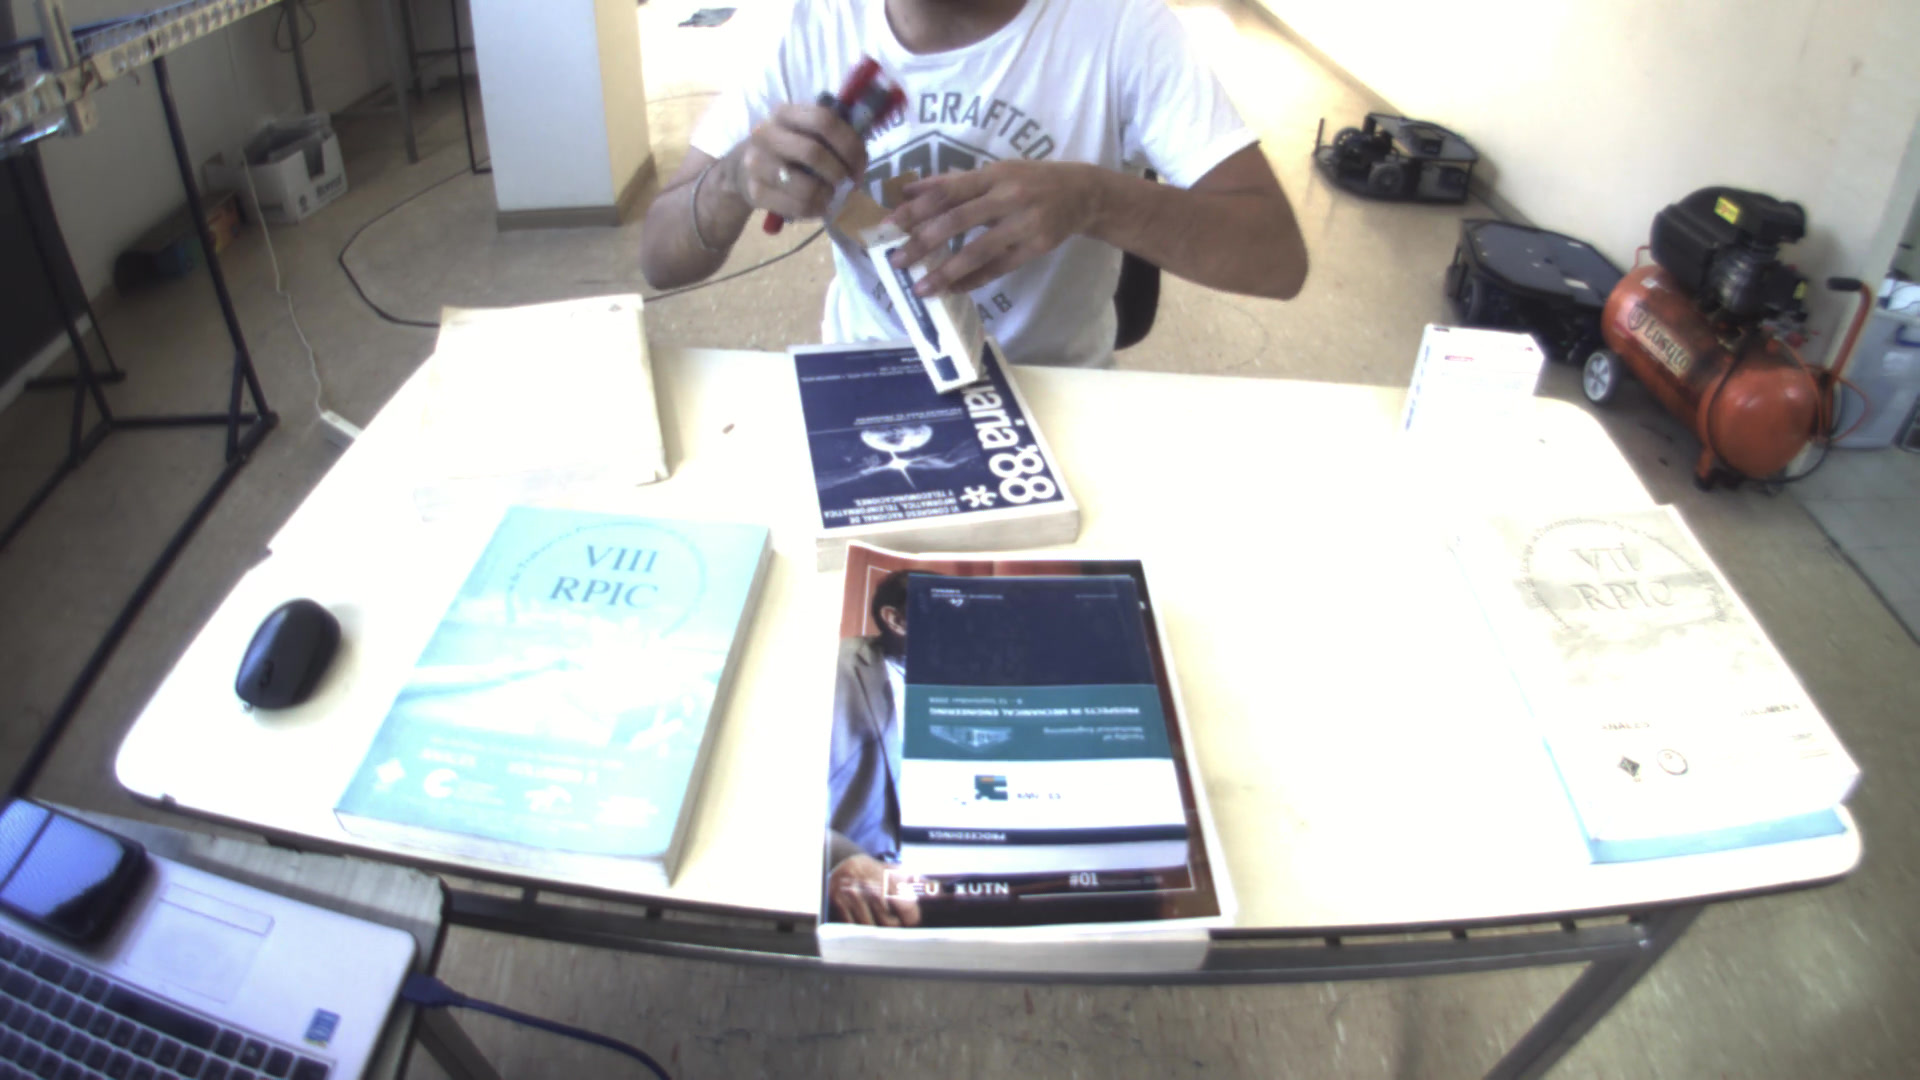hand: (866, 142, 1100, 290), (727, 100, 866, 222)
